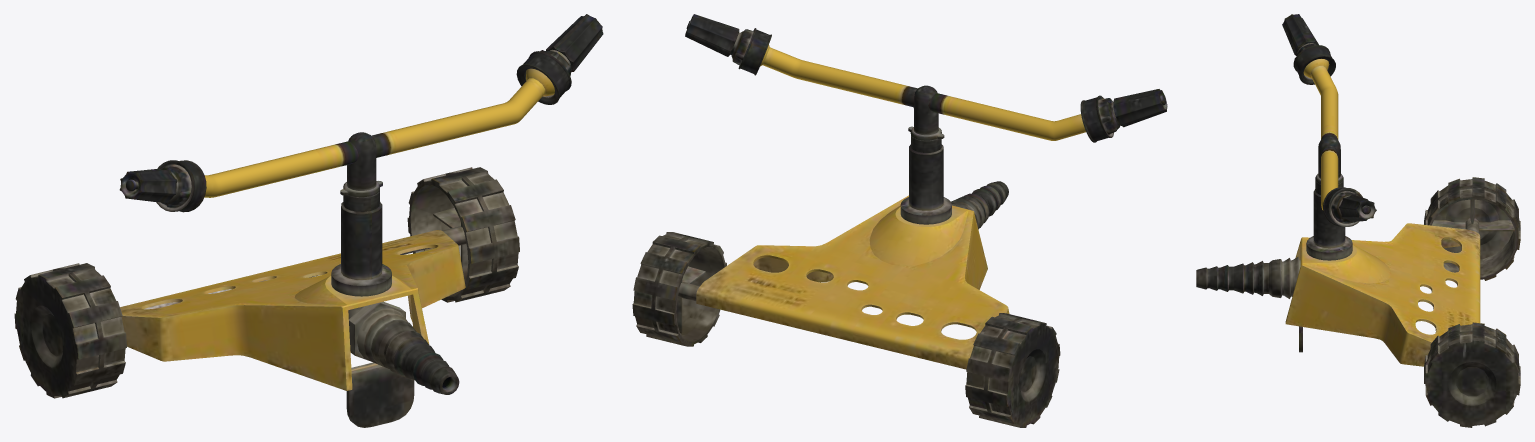
The picture shows the model from 3 angles, left to right: view 1: azimuth 30°, elevation 25°; view 2: azimuth 150°, elevation 25°; view 3: azimuth 270°, elevation 25°; orthographic projection. The views are drawn at different scales.
Parts seen in each view (by area): view 1: garden_sprinkler_01_body_main, garden_sprinkler_01_wheels, garden_sprinkler_01_spinner, garden_sprinkler_01_nozel_left, garden_sprinkler_01_nozel_right; view 2: garden_sprinkler_01_body_main, garden_sprinkler_01_wheels, garden_sprinkler_01_spinner, garden_sprinkler_01_nozel_left, garden_sprinkler_01_nozel_right; view 3: garden_sprinkler_01_body_main, garden_sprinkler_01_wheels, garden_sprinkler_01_spinner, garden_sprinkler_01_nozel_left, garden_sprinkler_01_nozel_right.
Part boxes in pixels (box(x1,y1,x2,y2)): garden_sprinkler_01_body_main: box(120, 181, 465, 427); garden_sprinkler_01_wheels: box(14, 167, 519, 398); garden_sprinkler_01_spinner: box(204, 68, 554, 197); garden_sprinkler_01_nozel_left: box(119, 160, 206, 212); garden_sprinkler_01_nozel_right: box(516, 14, 603, 104); garden_sprinkler_01_body_main: box(696, 126, 1009, 369); garden_sprinkler_01_wheels: box(632, 232, 1060, 427); garden_sprinkler_01_spinner: box(760, 45, 1085, 140); garden_sprinkler_01_nozel_left: box(1080, 89, 1167, 142); garden_sprinkler_01_nozel_right: box(685, 14, 771, 75); garden_sprinkler_01_body_main: box(1196, 174, 1480, 366); garden_sprinkler_01_wheels: box(1424, 177, 1520, 427); garden_sprinkler_01_spinner: box(1303, 59, 1340, 210); garden_sprinkler_01_nozel_left: box(1282, 14, 1335, 84); garden_sprinkler_01_nozel_right: box(1323, 187, 1376, 226).
Bounding box in the file's own units: 0.3508 × 0.203 × 0.2491.
1 material, 1 textured.
